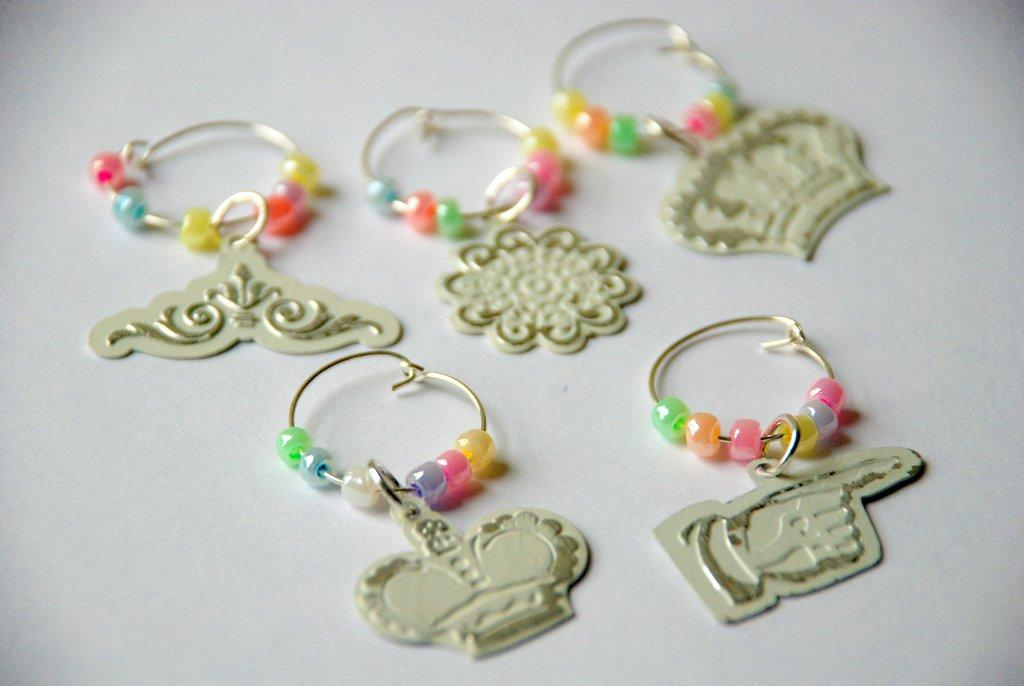earring: (275, 346, 589, 660), (647, 307, 926, 627), (550, 15, 884, 262), (86, 118, 399, 355), (355, 94, 640, 351)
